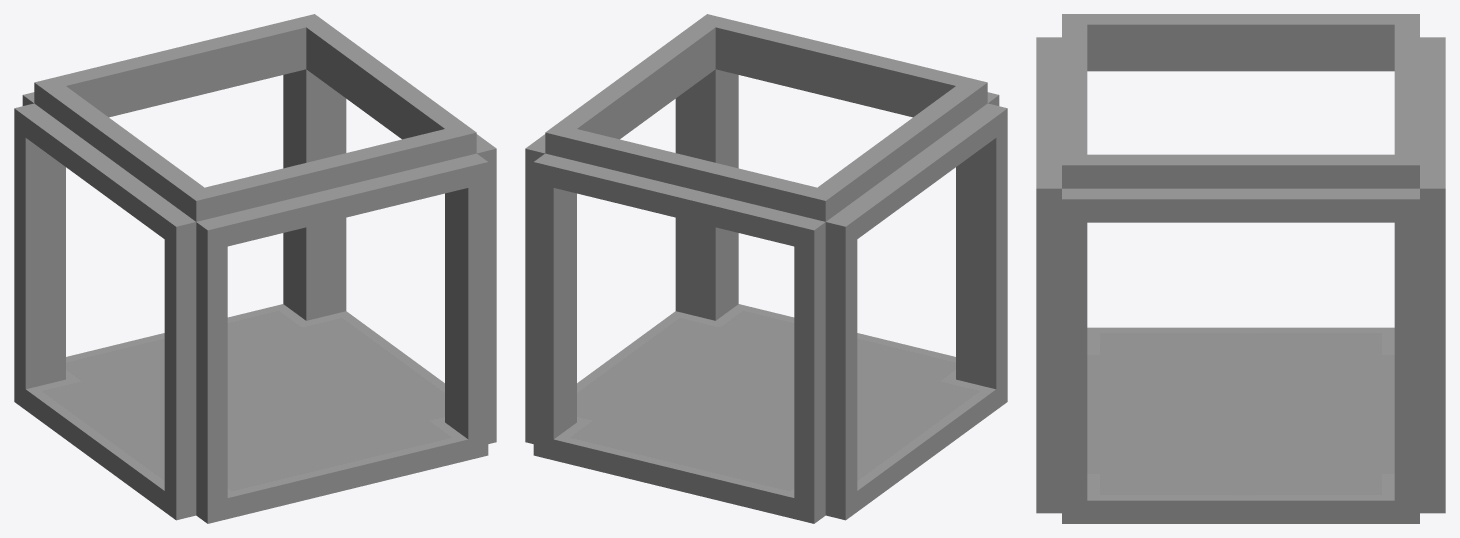
File: vent_5.fbx
3 renders of one model, left to right at view 1: azimuth 30°, elevation 25°; view 2: azimuth 150°, elevation 25°; view 3: azimuth 270°, elevation 25°, orthographic. The views are drawn at different scales.
Parts seen in each view (by area): view 1: cube_3, cube_14, cube, cube_12, cube_10, cube_6, cube_15, cube_11, cube_4, cube_16, cube_9, cube_8 (+6 smaller); view 2: cube_3, cube_15, cube_4, cube_13, cube_11, cube_7, cube_14, cube_10, cube, cube_16, cube_9, cube_8 (+6 smaller); view 3: cube_3, cube_1, cube_17, cube_18, cube_16, cube_9, cube, cube_4, cube_2, cube_5, cube_12, cube_13 (+3 smaller).
Boxes of the visible parts, x1,y1,x2,y2 form: cube_3: [46, 304, 488, 523]; cube_14: [54, 19, 306, 117]; cube: [445, 183, 488, 439]; cube_12: [196, 153, 488, 251]; cube_10: [164, 240, 196, 499]; cube_6: [196, 243, 227, 502]; cube_15: [205, 129, 456, 216]; cube_11: [14, 129, 45, 389]; cube_4: [283, 69, 326, 320]; cube_16: [34, 77, 216, 221]; cube_9: [14, 103, 196, 247]; cube_8: [14, 381, 196, 520]; cube_3: [533, 304, 975, 523]; cube_15: [715, 19, 967, 117]; cube_4: [533, 183, 576, 439]; cube_13: [533, 153, 825, 251]; cube_11: [825, 240, 857, 499]; cube_7: [794, 243, 825, 502]; cube_14: [565, 129, 816, 216]; cube_10: [976, 129, 1007, 389]; cube: [695, 69, 738, 320]; cube_16: [805, 77, 987, 221]; cube_9: [825, 103, 1007, 247]; cube_8: [825, 381, 1007, 520]; cube_3: [1036, 338, 1445, 513]; cube_1: [1062, 188, 1419, 222]; cube_17: [1062, 154, 1419, 188]; cube_18: [1062, 490, 1419, 523]; cube_16: [1062, 14, 1419, 47]; cube_9: [1087, 48, 1394, 71]; cube: [1036, 211, 1061, 489]; cube_4: [1420, 211, 1445, 489]; cube_2: [1062, 222, 1087, 500]; cube_5: [1394, 222, 1419, 500]; cube_12: [1036, 37, 1061, 211]; cube_13: [1420, 37, 1445, 211].
Bounding box in the file's own units: 100 × 93.75 × 100.
Materials: 3 (3 with a texture image).
